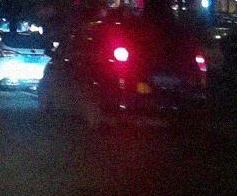L_light: (112, 47, 129, 61)
R_light: (195, 54, 207, 72)
T_light: (146, 27, 159, 30)
night-left: (94, 24, 211, 126)
